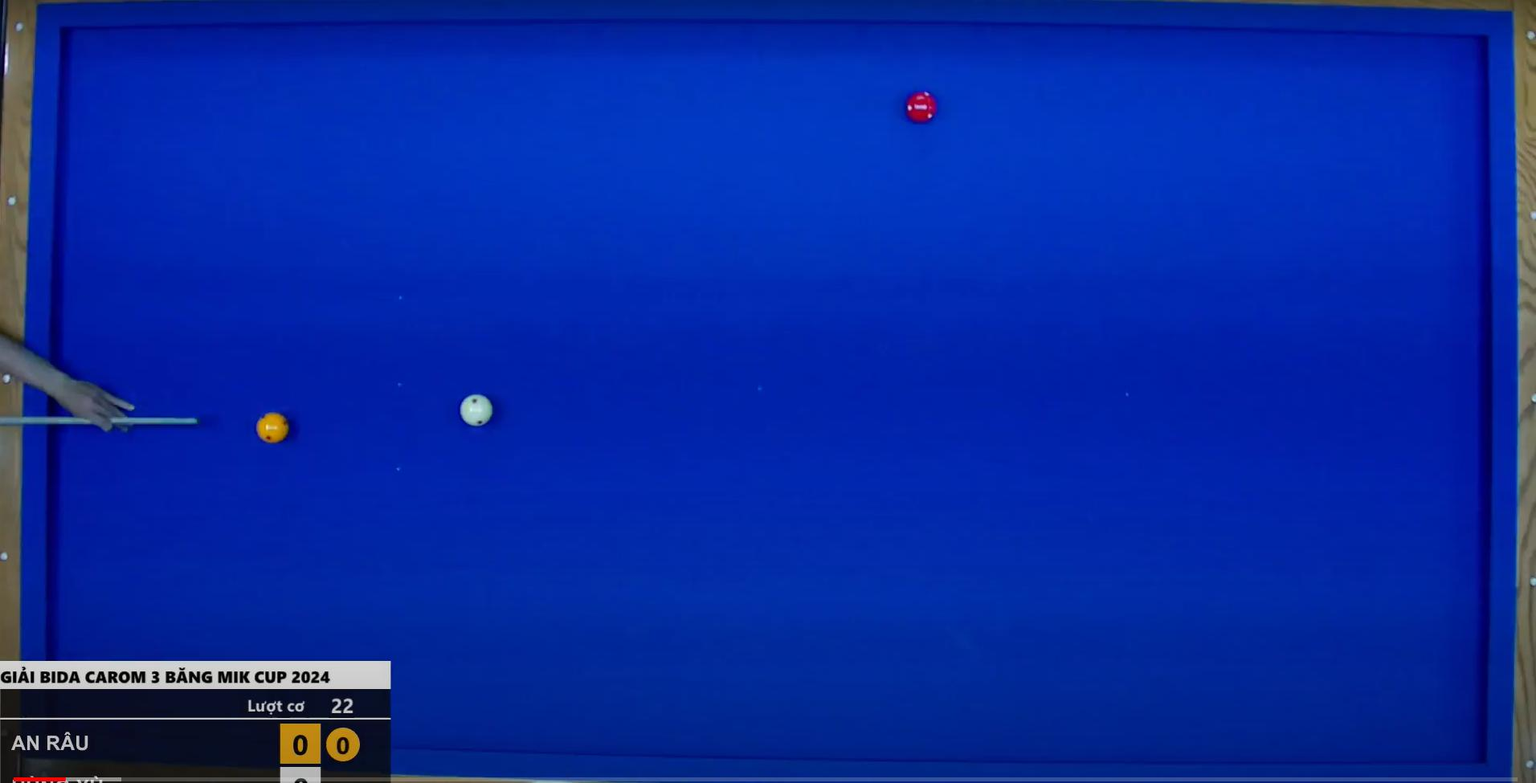red ball: (901, 87, 944, 128)
white ball: (457, 389, 499, 434)
yellow ball: (249, 407, 299, 452)
